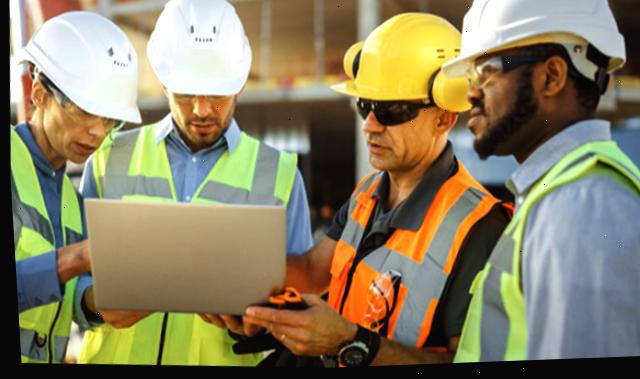helmet: (13, 0, 149, 130), (319, 7, 478, 110), (443, 0, 631, 86), (150, 0, 255, 101)
vest: (68, 109, 313, 375), (432, 140, 640, 367), (311, 154, 504, 370), (5, 115, 92, 365)
